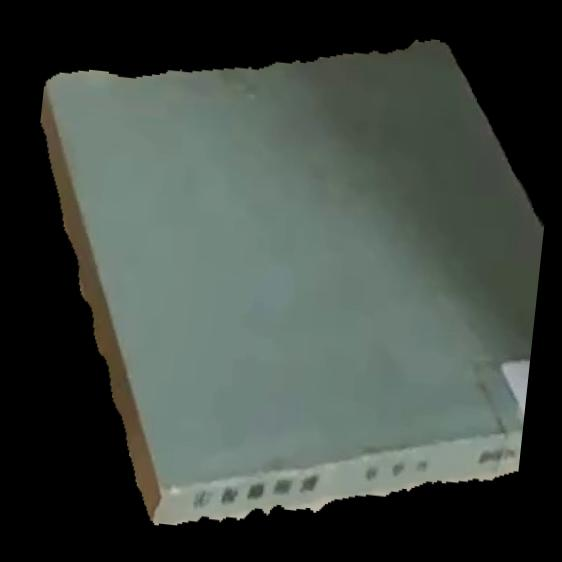flat: (1, 1, 562, 562)
